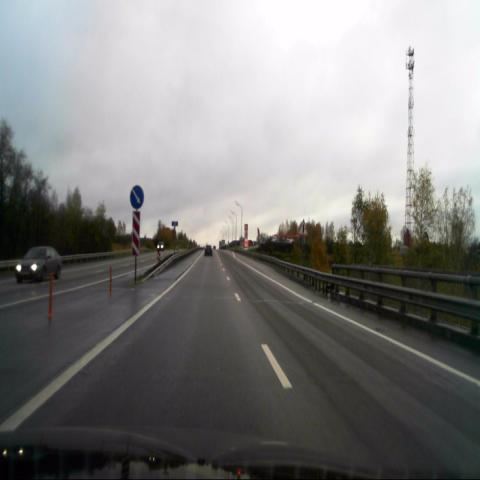4_2_1: (130, 184, 144, 208)
